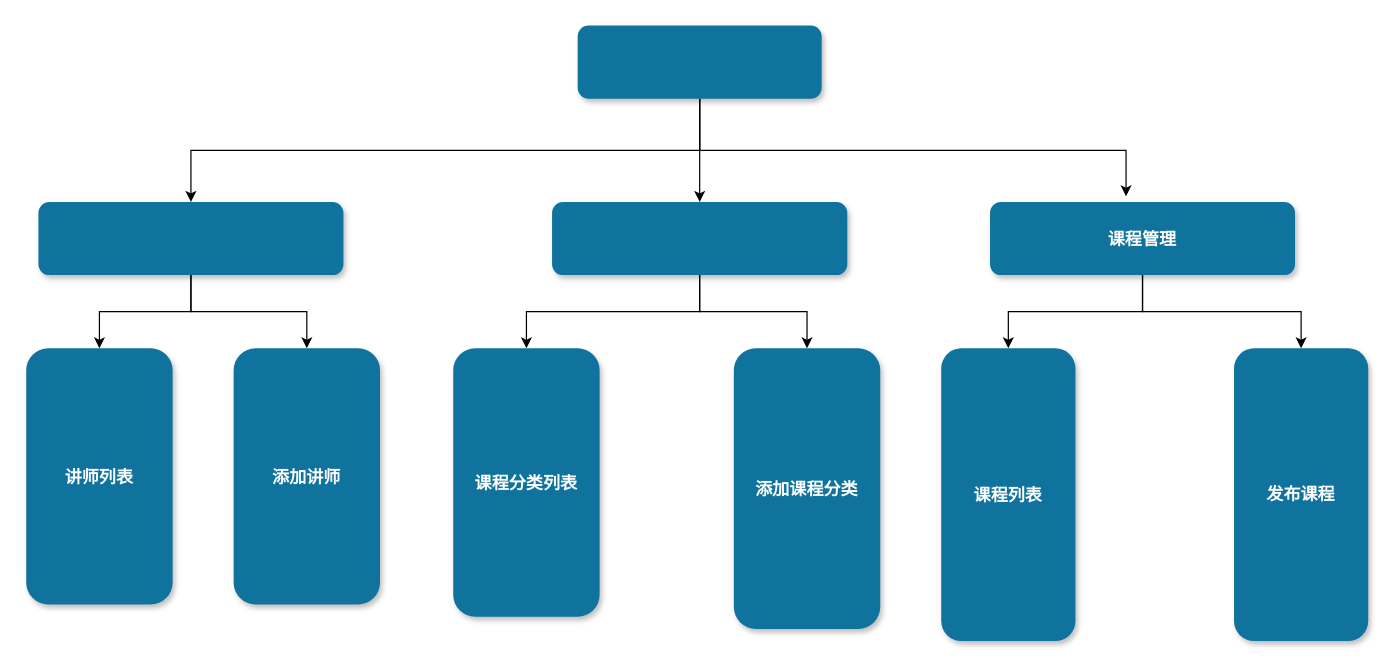
The diagram is 1396 pixels wide and 671 high, and some of its shapes have lost their labels. The centre of each missing label's shape, as x and y in pixels:
"在线教育系统" belongs at pixel 700 63.
"讲师管理" belongs at pixel 191 239.
"课程分类管理" belongs at pixel 700 239.
